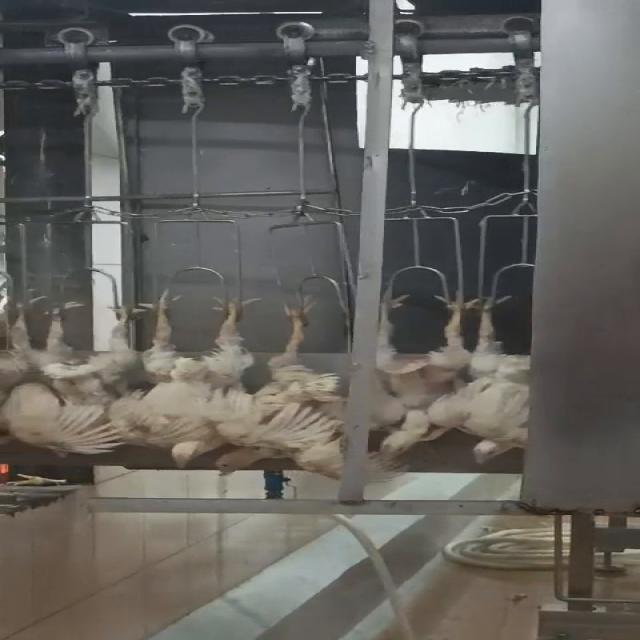chicken: (116, 294, 266, 472), (222, 307, 347, 475), (5, 300, 128, 464), (364, 286, 466, 462), (457, 290, 533, 466)
